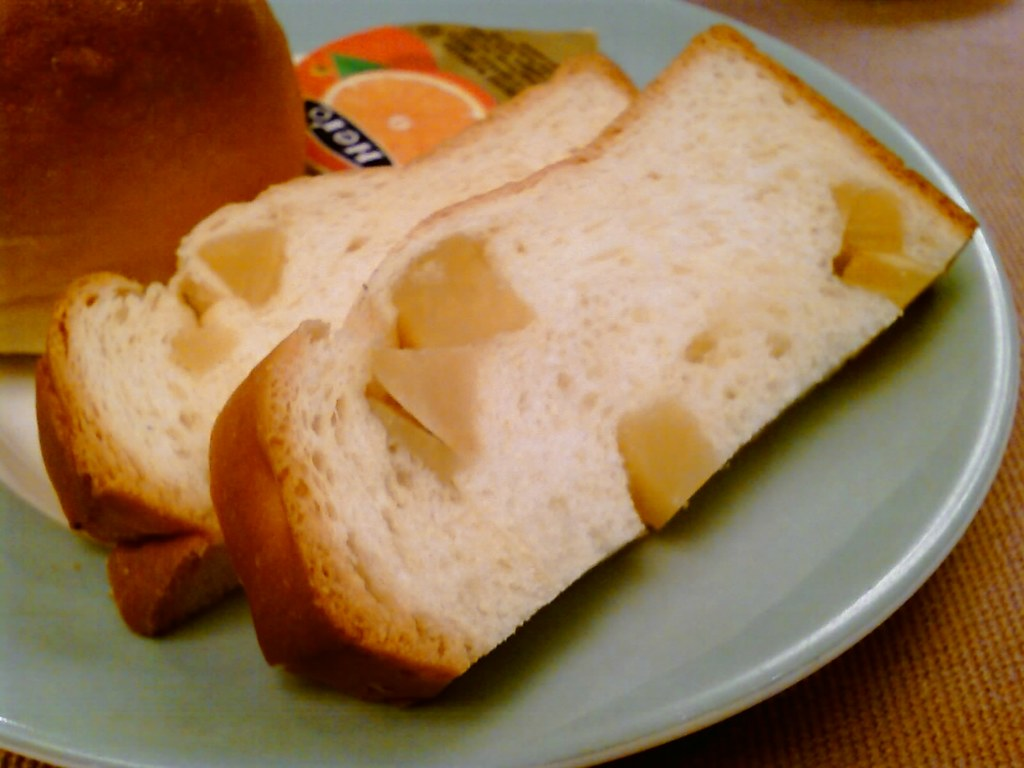sandwich: (204, 16, 982, 704), (28, 43, 636, 641)
